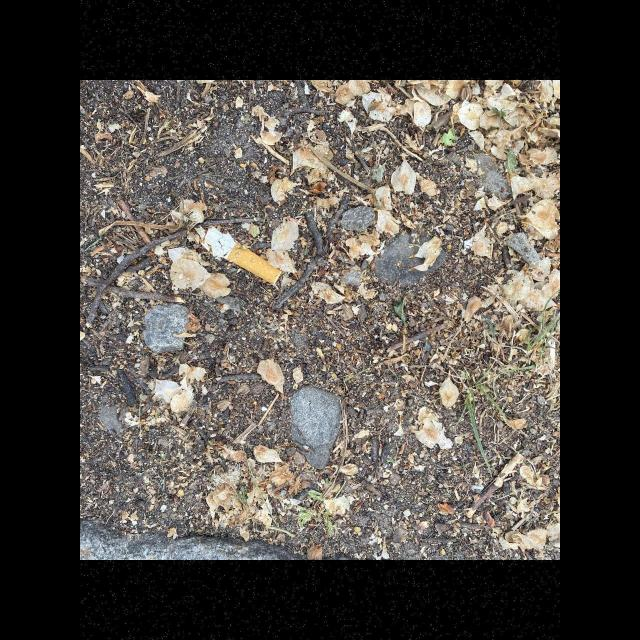cigarette: (194, 224, 282, 286)
